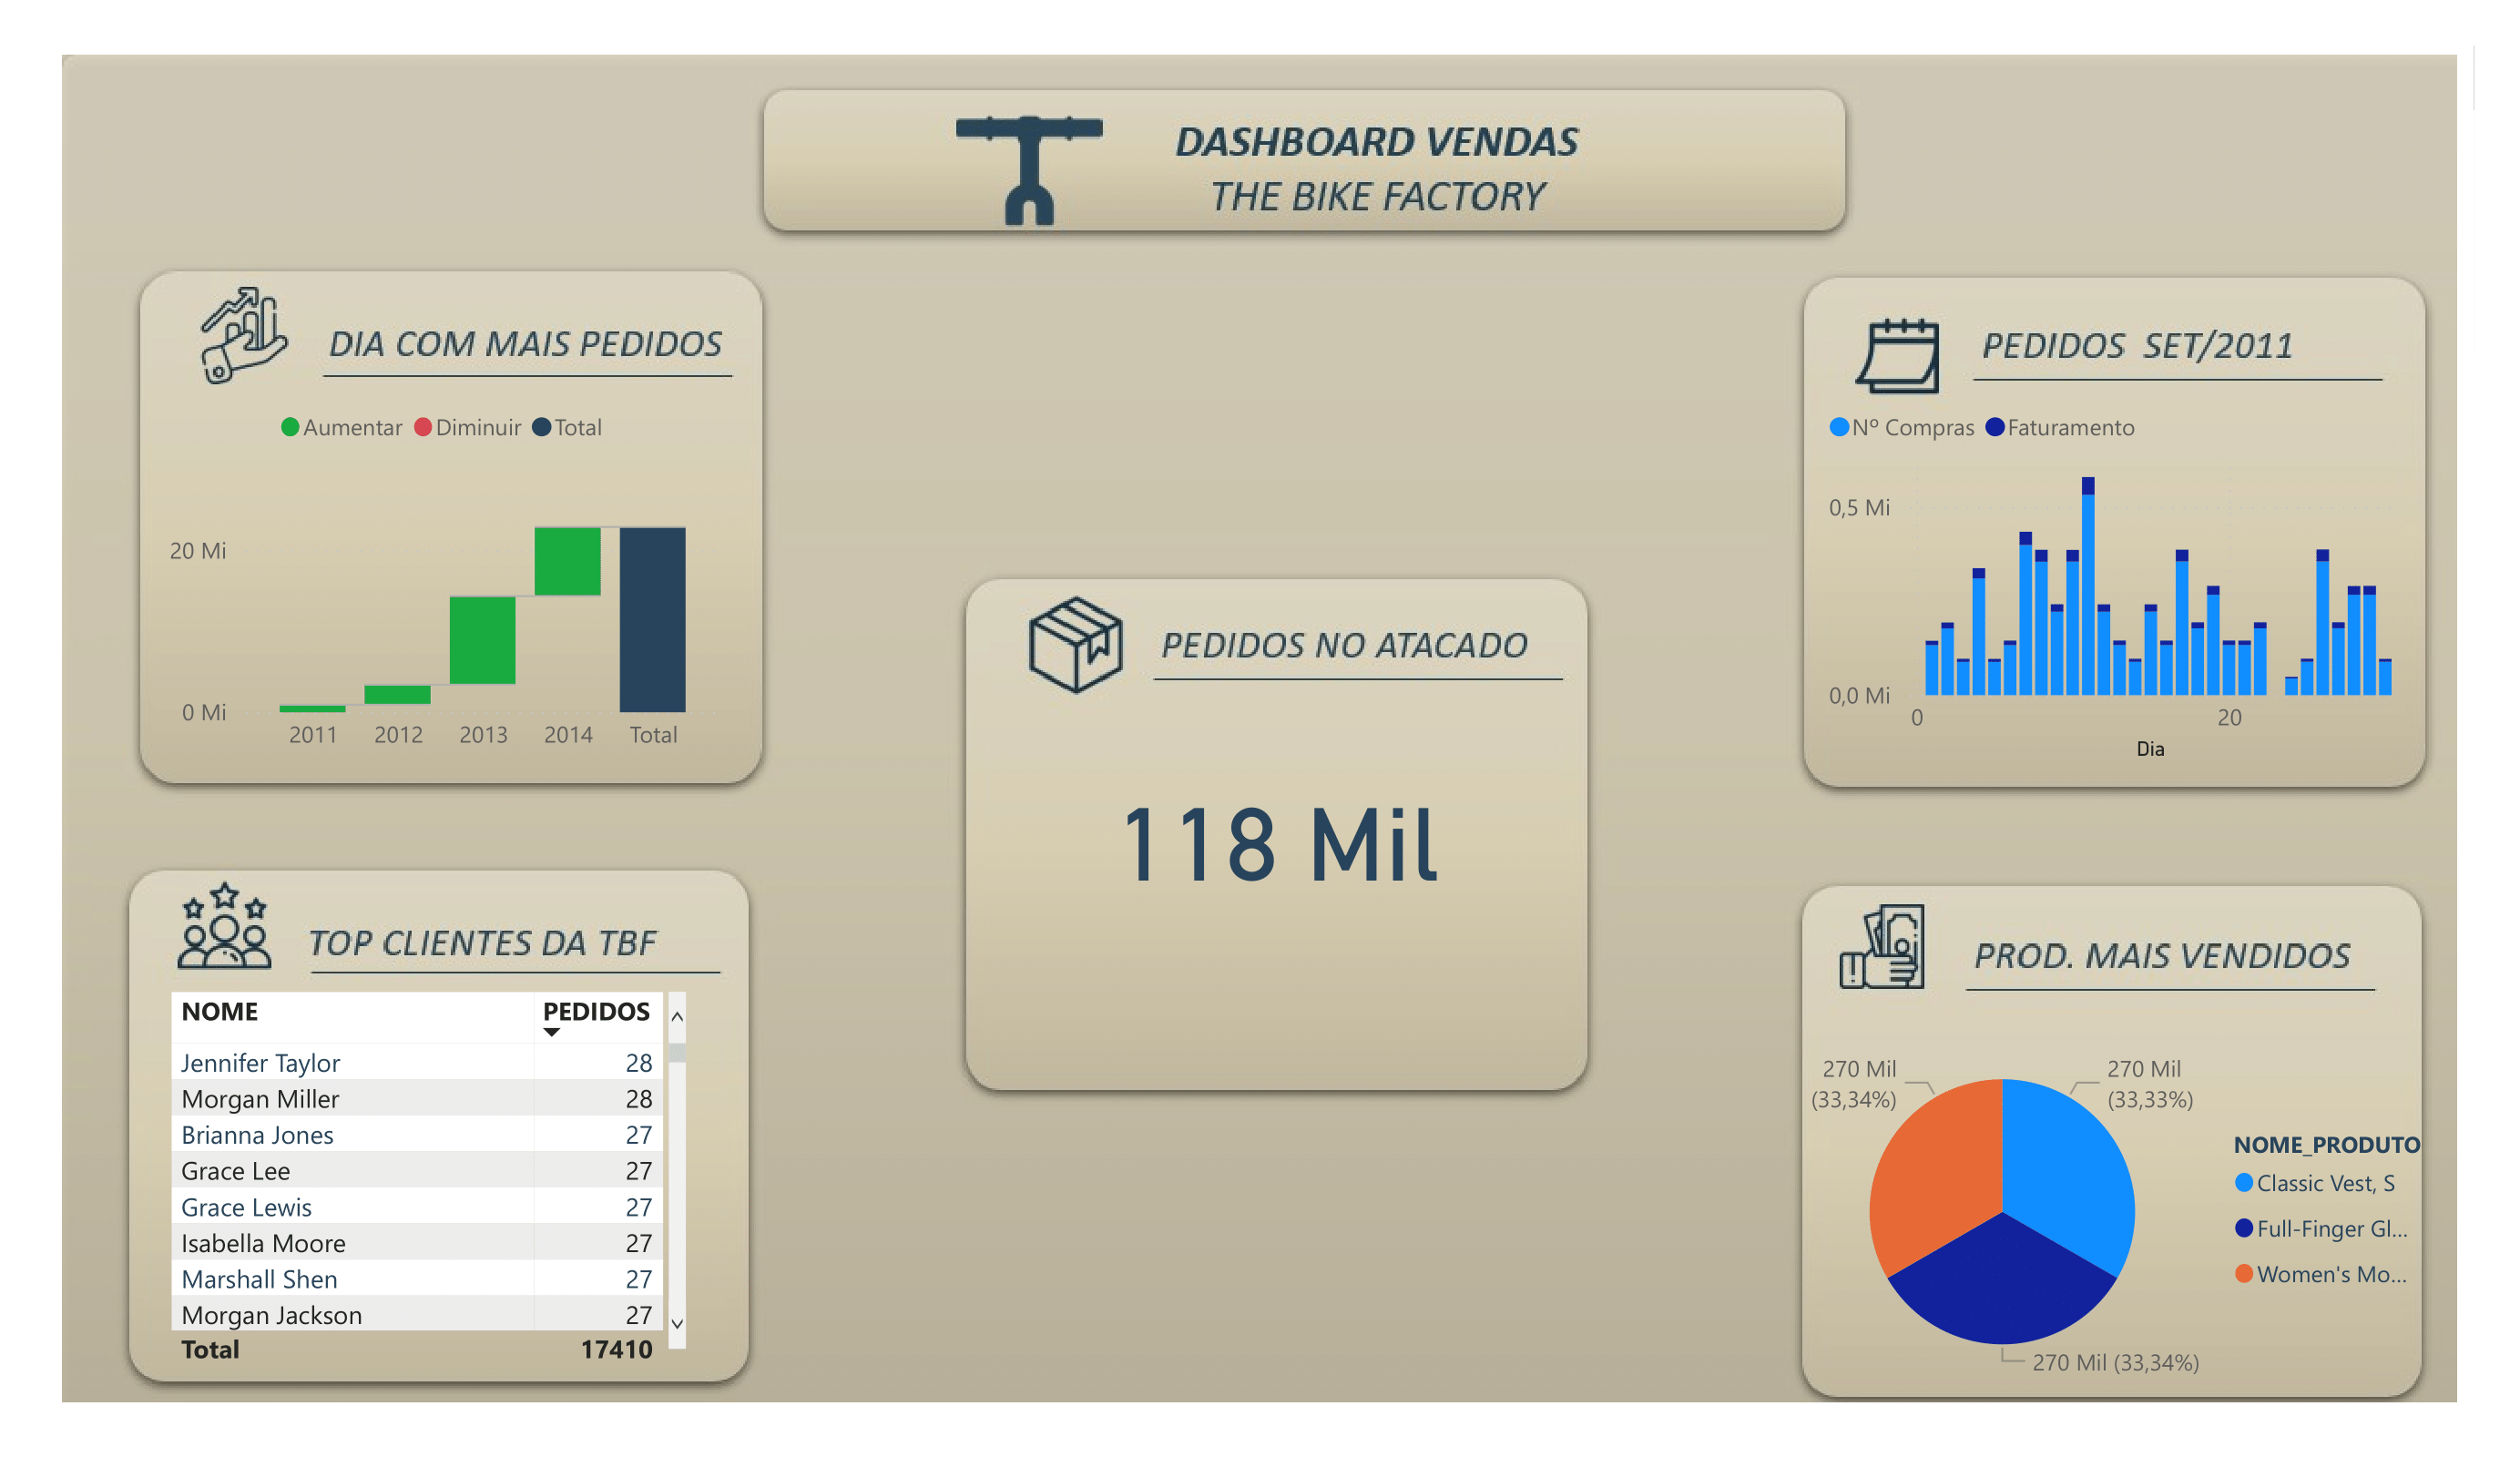

The page's visual inventory and layout, read from the dashboard file:
{"tool":"powerbi","page":{"name":"Página 1","canvas":[1280,720],"ordinal":0},"visuals":[{"type":"image","box":[0,0,1280.2,720],"z":500},{"type":"card","fields":{"Values":["df_1.TOTAL_PEDIDOS_MAIOR_3_LINHAS"]},"box":[481,282.2,335.5,263.5],"z":1000},{"type":"pieChart","fields":{"Category":["df_2.NOME_PRODUTO"],"Y":["df_2.DIAS_MANUFATURA","df_2.TOTAL_VENDIDO"]},"box":[904,509.3,358.9,210.2],"z":2000},{"type":"tableEx","fields":{"Values":["df_3.NOME","df_3.PEDIDOS_REALIZADOS"]},"box":[60.5,493.9,282.2,206.6],"z":3000},{"type":"waterfallChart","fields":{"Category":["df_4.DIA_PEDIDO.Variation.Hierarquia de datas.Ano","df_4.DIA_PEDIDO.Variation.Hierarquia de datas.Trimestre","df_4.DIA_PEDIDO.Variation.Hierarquia de datas.Mês","df_4.DIA_PEDIDO.Variation.Hierarquia de datas.Dia"],"Y":["df_4.ID_PRODUTO"]},"box":[60.5,181.4,300.7,199.9],"z":4000},{"type":"columnChart","fields":{"Category":["df_5.DATA_PEDIDO.Variation.Hierarquia de datas.Dia"],"Y":["df_5.ORDEM_COMPRA","df_5.TOTAL_DEVIDO"]},"box":[934,181.4,310.8,199.9],"z":5000}]}

Visuals, with their boxes on the page's 1280x720 design canvas (x1, y1, x2, y2). These are canvas units, not pixel positions in the 2520x1457 screenshot, which may show the page scaled, cropped or inside an application window:
image: 0:0:1280:720
card - df_1.TOTAL_PEDIDOS_MAIOR_3_LINHAS: 481:282:816:546
pieChart - df_2.NOME_PRODUTO x df_2.DIAS_MANUFATURA: 904:509:1263:720
tableEx - df_3.NOME x df_3.PEDIDOS_REALIZADOS: 60:494:343:700
waterfallChart - df_4.DIA_PEDIDO.Variation.Hierarquia de datas.Ano x df_4.DIA_PEDIDO.Variation.Hierarquia de datas.Trimestre: 60:181:361:381
columnChart - df_5.DATA_PEDIDO.Variation.Hierarquia de datas.Dia x df_5.ORDEM_COMPRA: 934:181:1245:381
